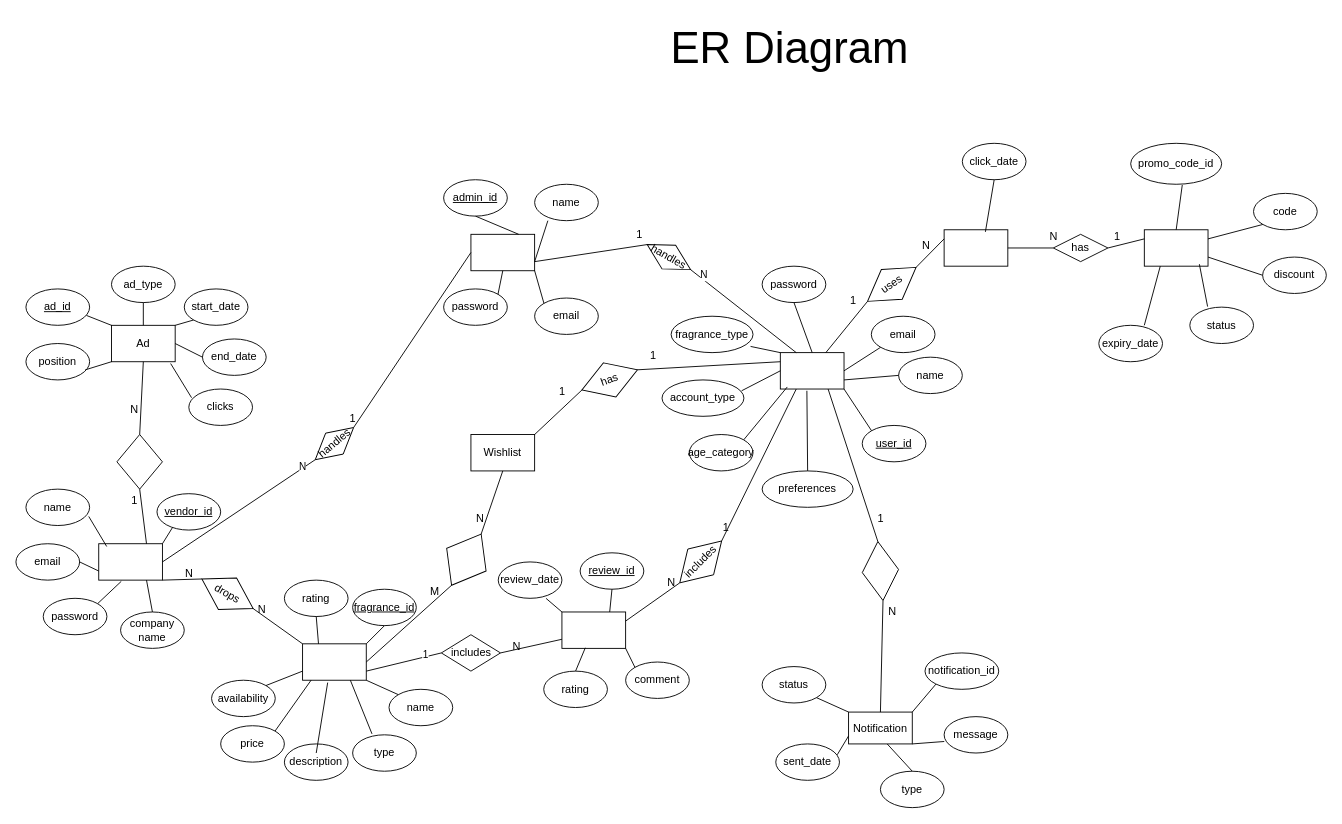
Image size: 1342x824. Some labels were removed from this diagram. The centre of each missing label's shape, as x and y in pixels:
"Admin" goes at (502,252).
"contains" goes at (466,559).
"Fragrance" goes at (334,661).
"Hitcount" goes at (975,247).
"Promocode" goes at (1175,247).
"publishes" goes at (139,461).
"receives" goes at (880,570).
"Review" goes at (593,629).
"User" goes at (811,370).
"Vendor" goes at (130,561).
